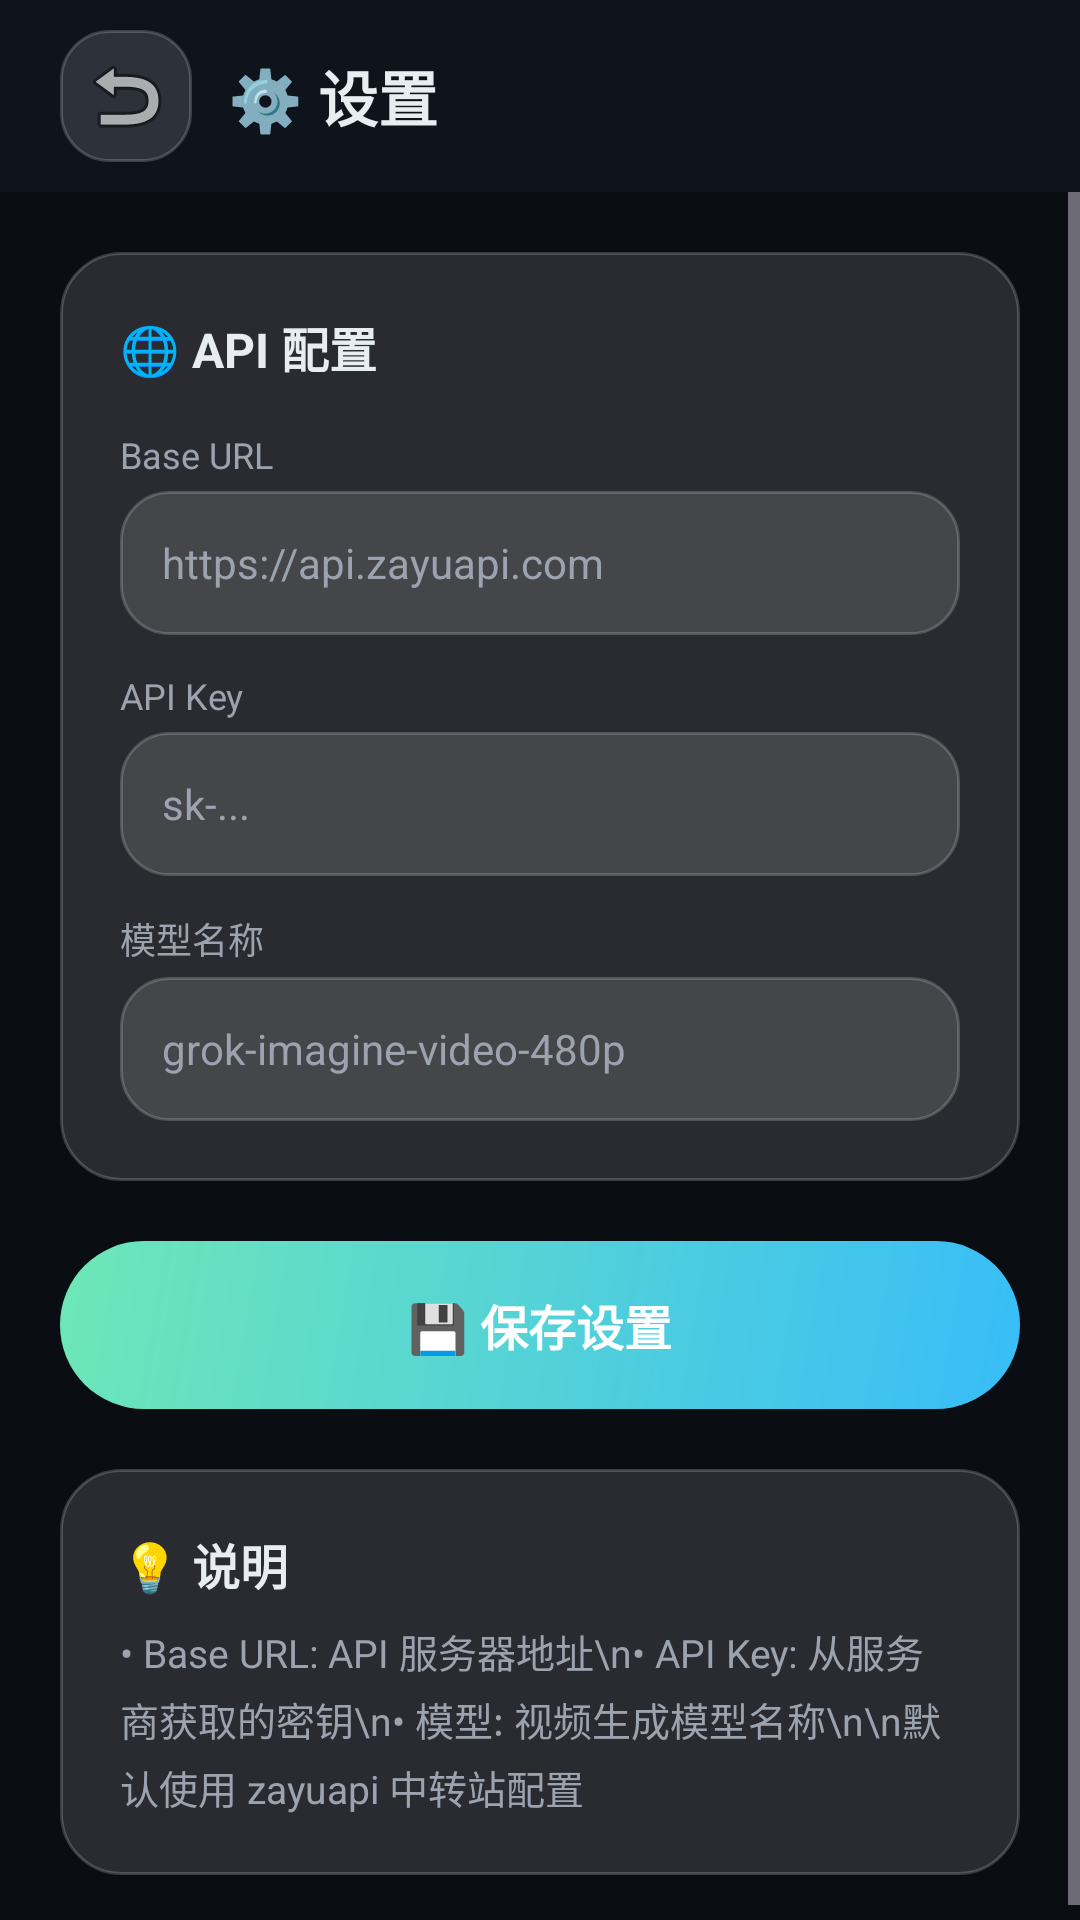

Named icons in this screenshot (1080x1920) and their centers, point (x, y):
revert: point (126, 96)
